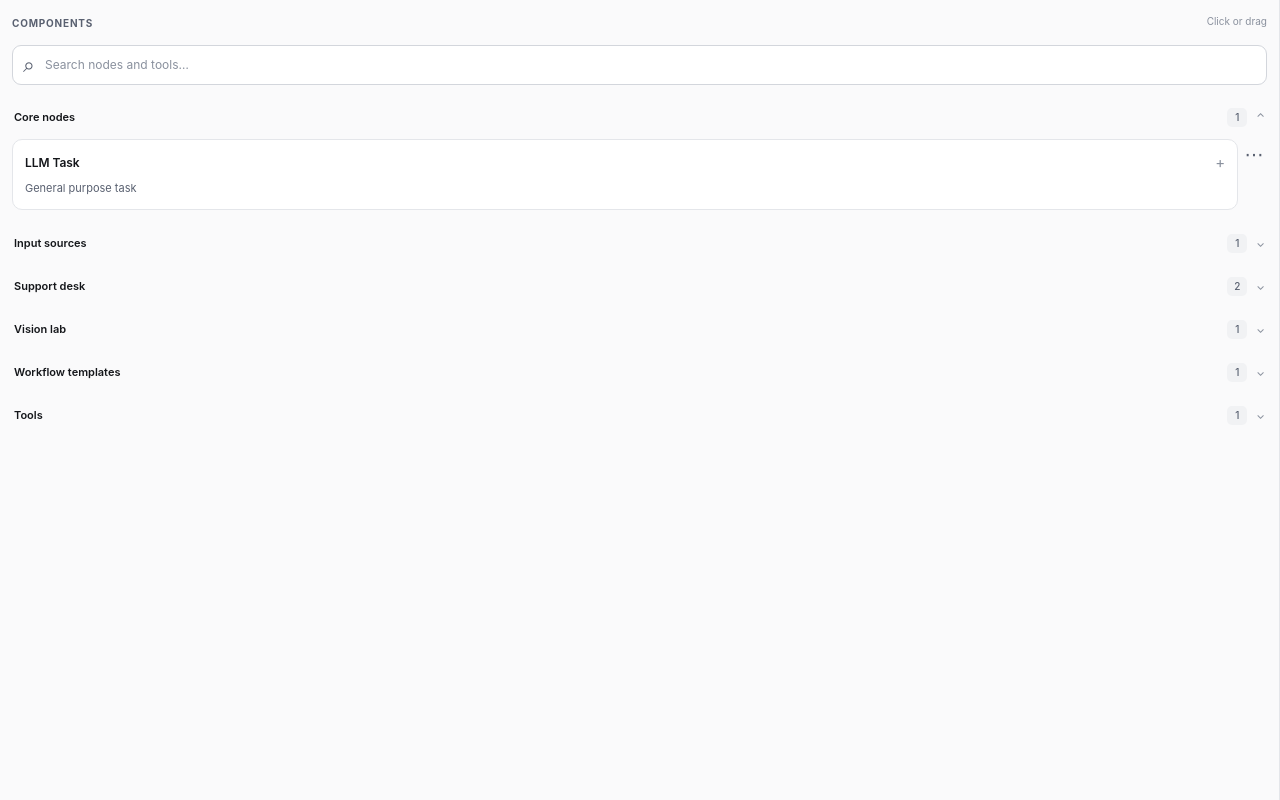
Test: node library hierarchy › opens a specialist group only when requested
Click the button "Support desk 2 ⌄". click: (50, 286)
box: [12,266,1267,306]
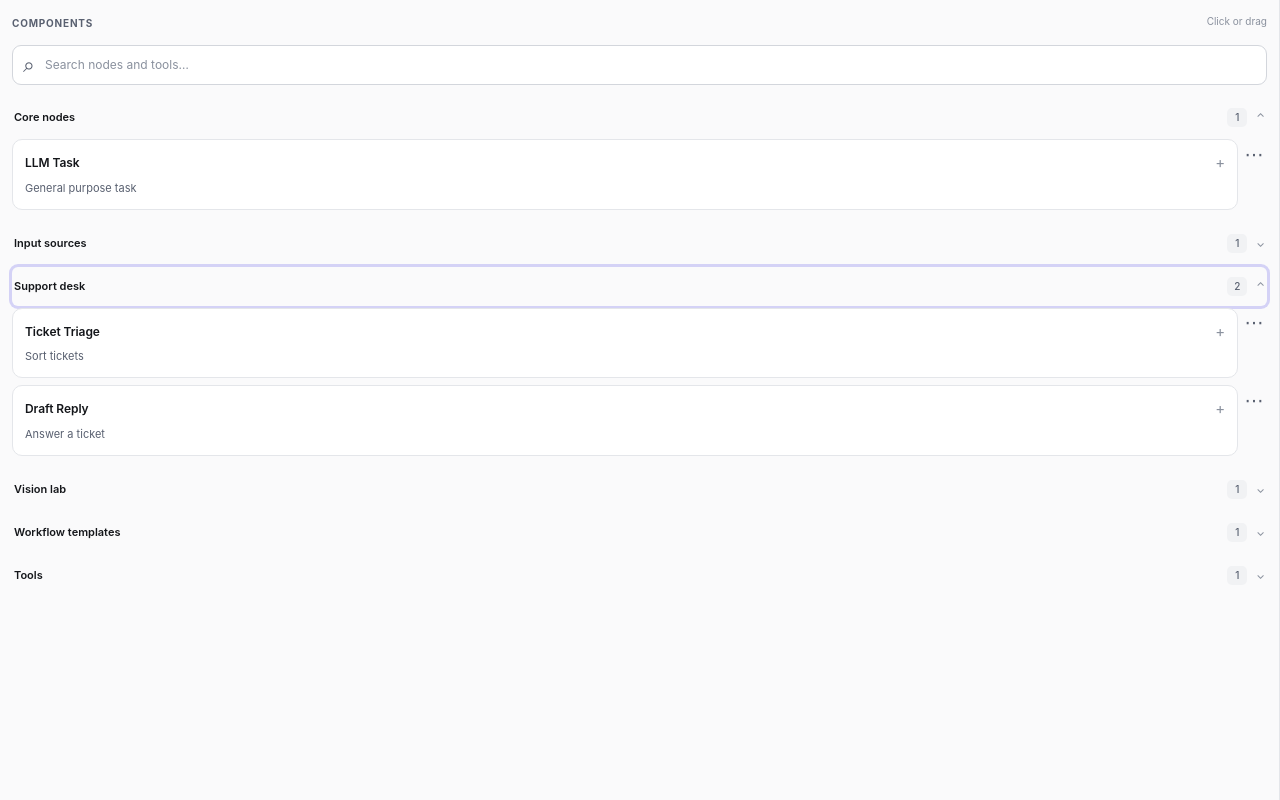
Expected: the text "Ticket Triage" is shown, [25,323,100,341]
Expected: the text "Draft Reply" is shown, [25,400,89,418]
